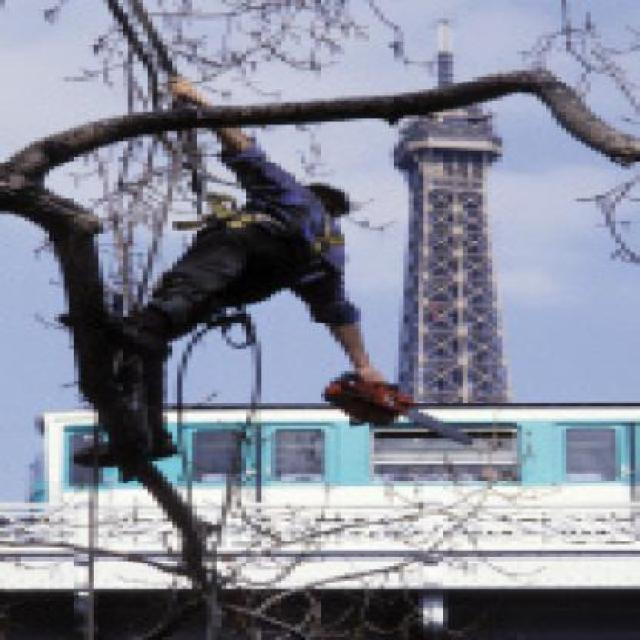Chainsaw: (323, 370, 472, 448)
